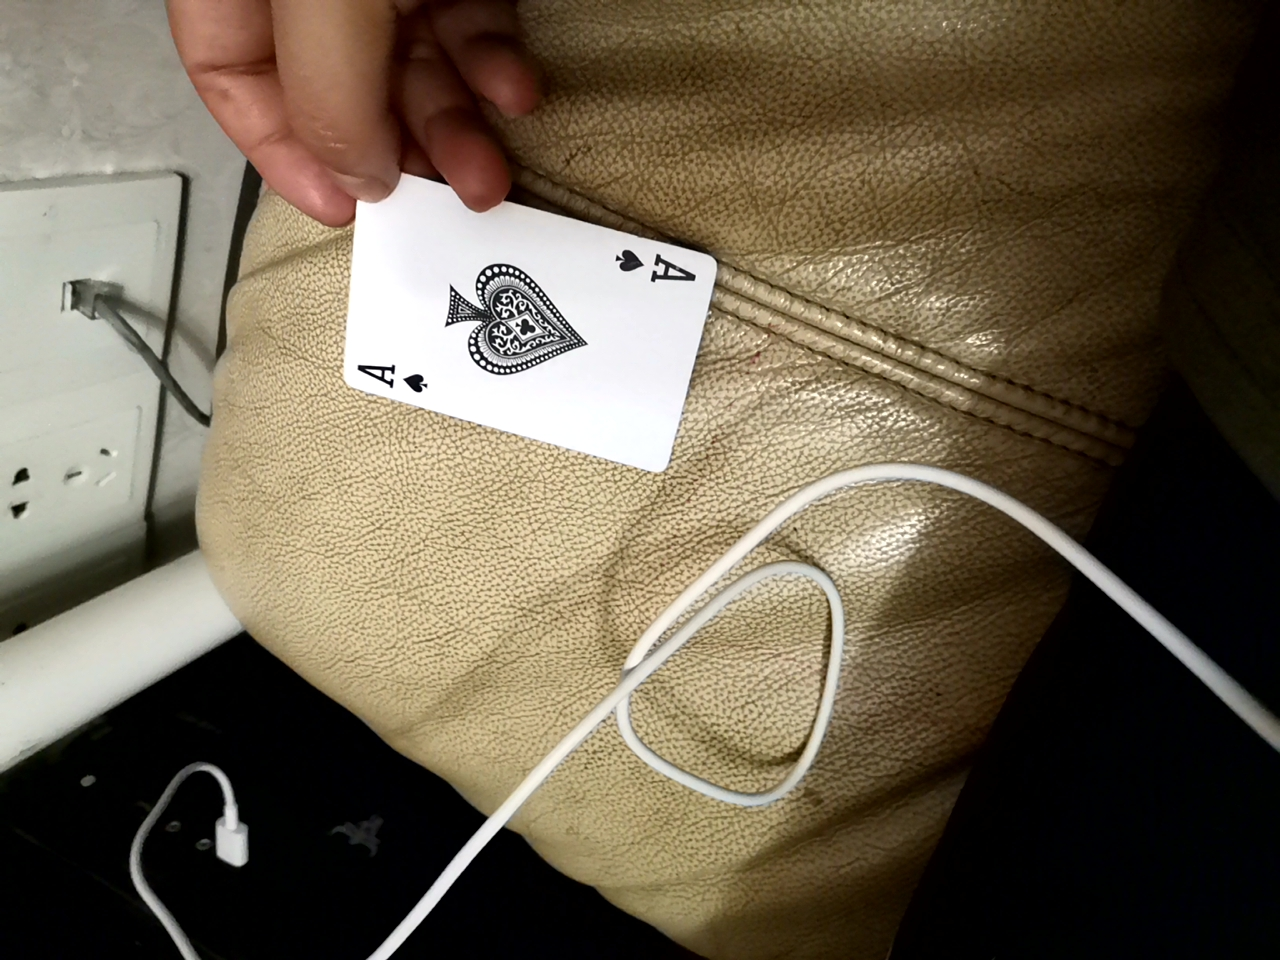ht a: (326, 193, 713, 480)
